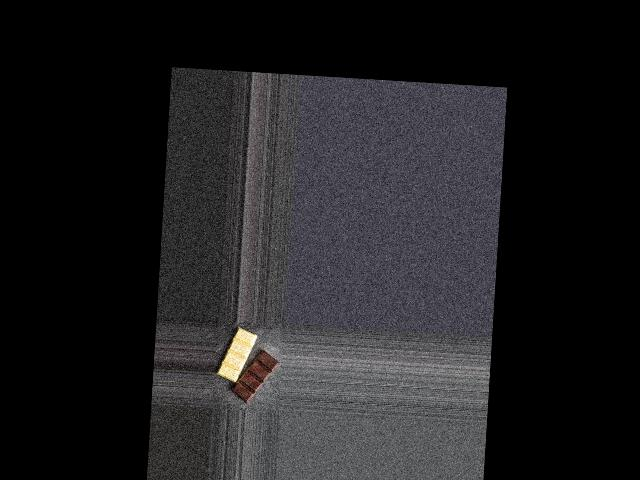chocolate: (215, 322, 279, 404)
